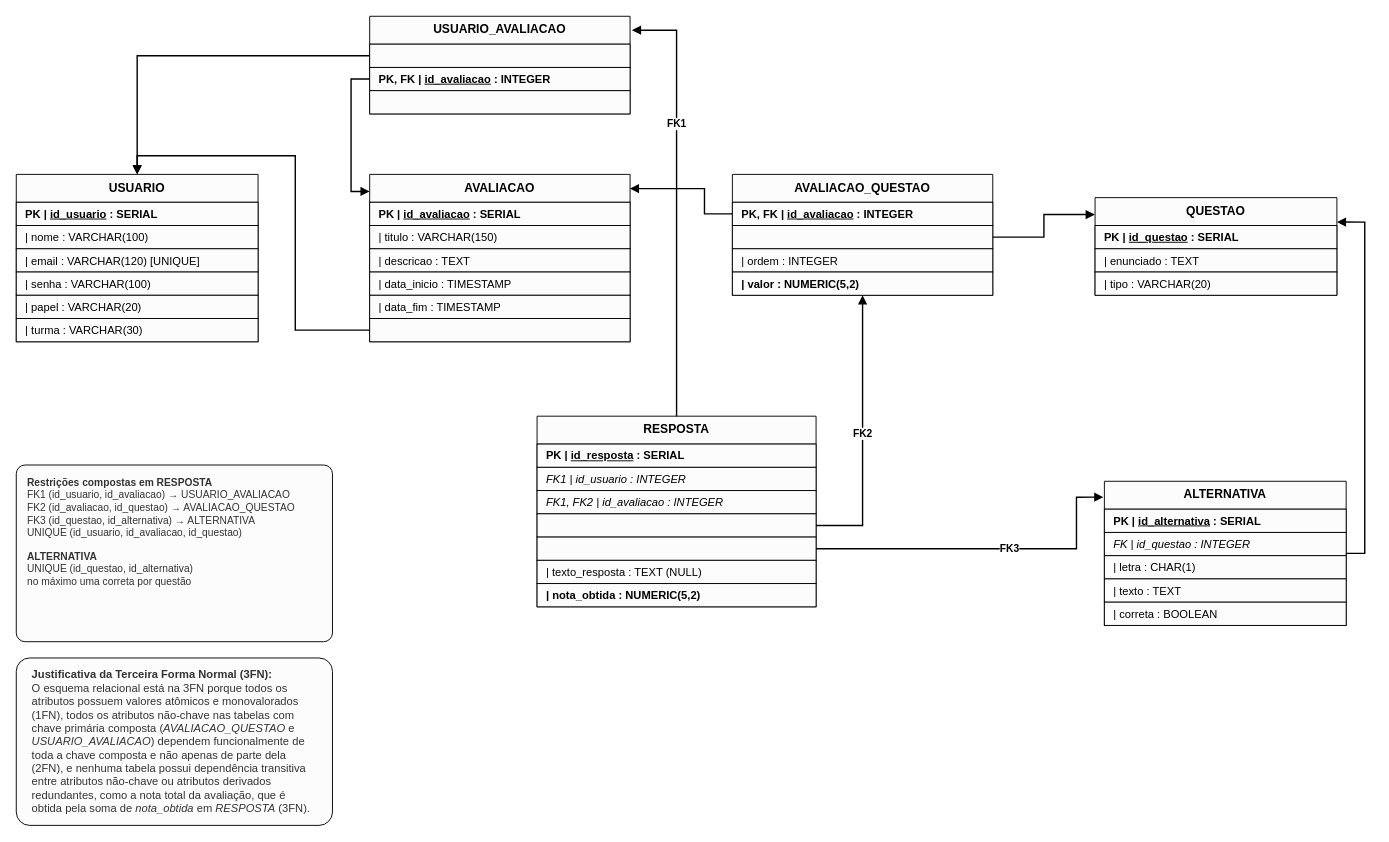
The diagram is 1389 pixels wide and 842 high, and some of its shapes have lost their labels. Each missing label, with the centre of its shape:
"FK | id_criador : INTEGER" belongs at [499,330].
"FK2, FK3 | id_questao : INTEGER" belongs at [676,525].
"FK3 | id_alternativa : INTEGER (NULL)" belongs at [676,548].
"PK, FK | id_questao : INTEGER" belongs at [862,237].
"PK, FK | id_usuario : INTEGER" belongs at [499,55].
"| data_entrega : TIMESTAMP" belongs at [499,102].
